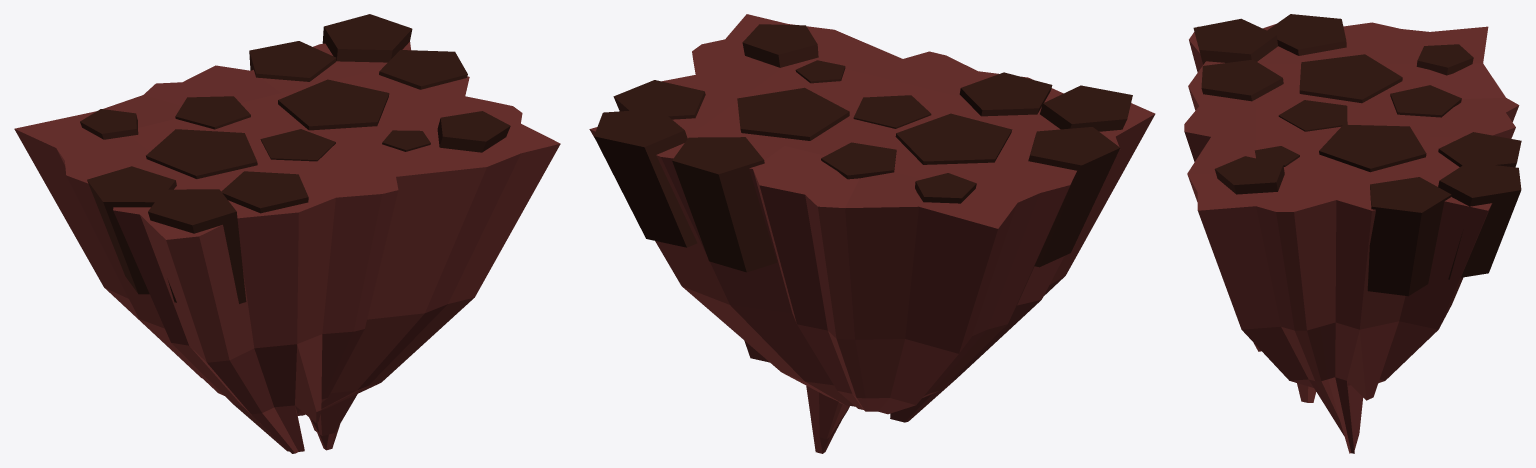
Rendered from hell2_floor.fbx.
The picture shows the model from 3 angles, left to right: view 1: azimuth 30°, elevation 25°; view 2: azimuth 150°, elevation 25°; view 3: azimuth 270°, elevation 25°; orthographic projection. The views are drawn at different scales.
Visible parts, largest first — view 1: Circle.007; view 2: Circle.007; view 3: Circle.007.
Boxes of the visible parts, bbox=[...] form: Circle.007: bbox=[14, 14, 560, 453]; Circle.007: bbox=[589, 14, 1155, 453]; Circle.007: bbox=[1184, 14, 1521, 453].
Bounding box in the file's own units: 1921 × 1478 × 1395.
